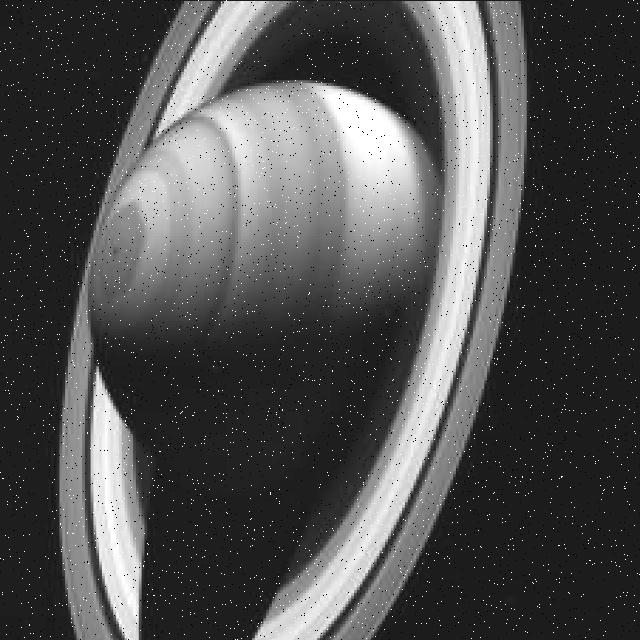Saturn: (54, 0, 532, 640)
